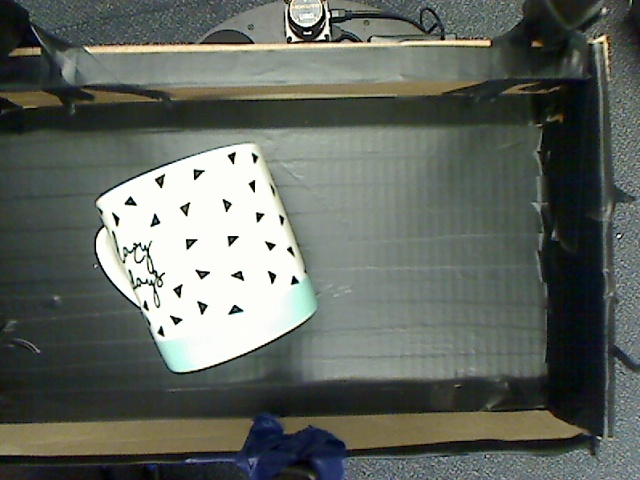mug: (90, 130, 314, 381)
